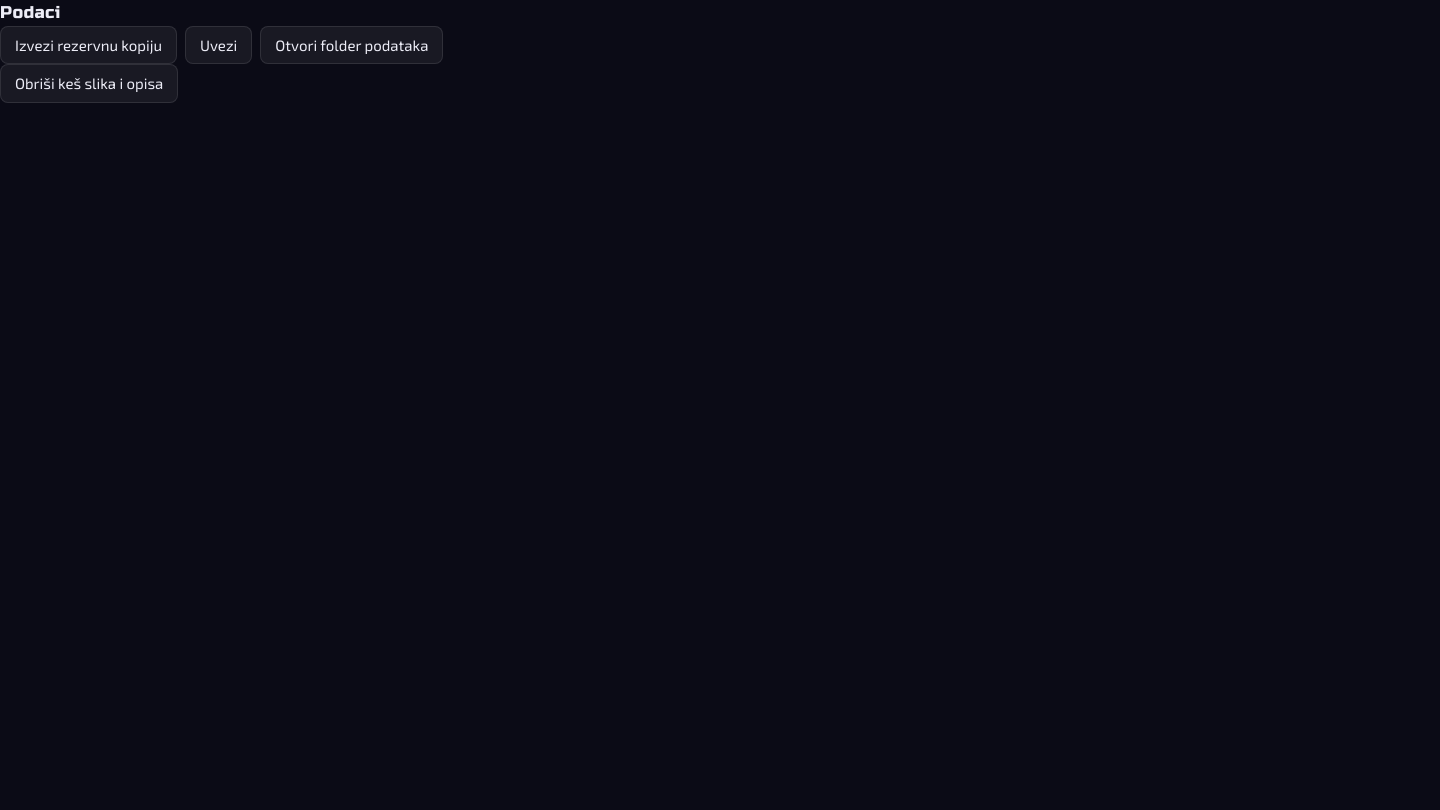
DataSection › import title is an h4 under the section h3
Expected: the heading "Podaci" is shown, [0,2,60,23]
Click the button "Uvezi" at x=219, y=45, box [185,26,252,64]
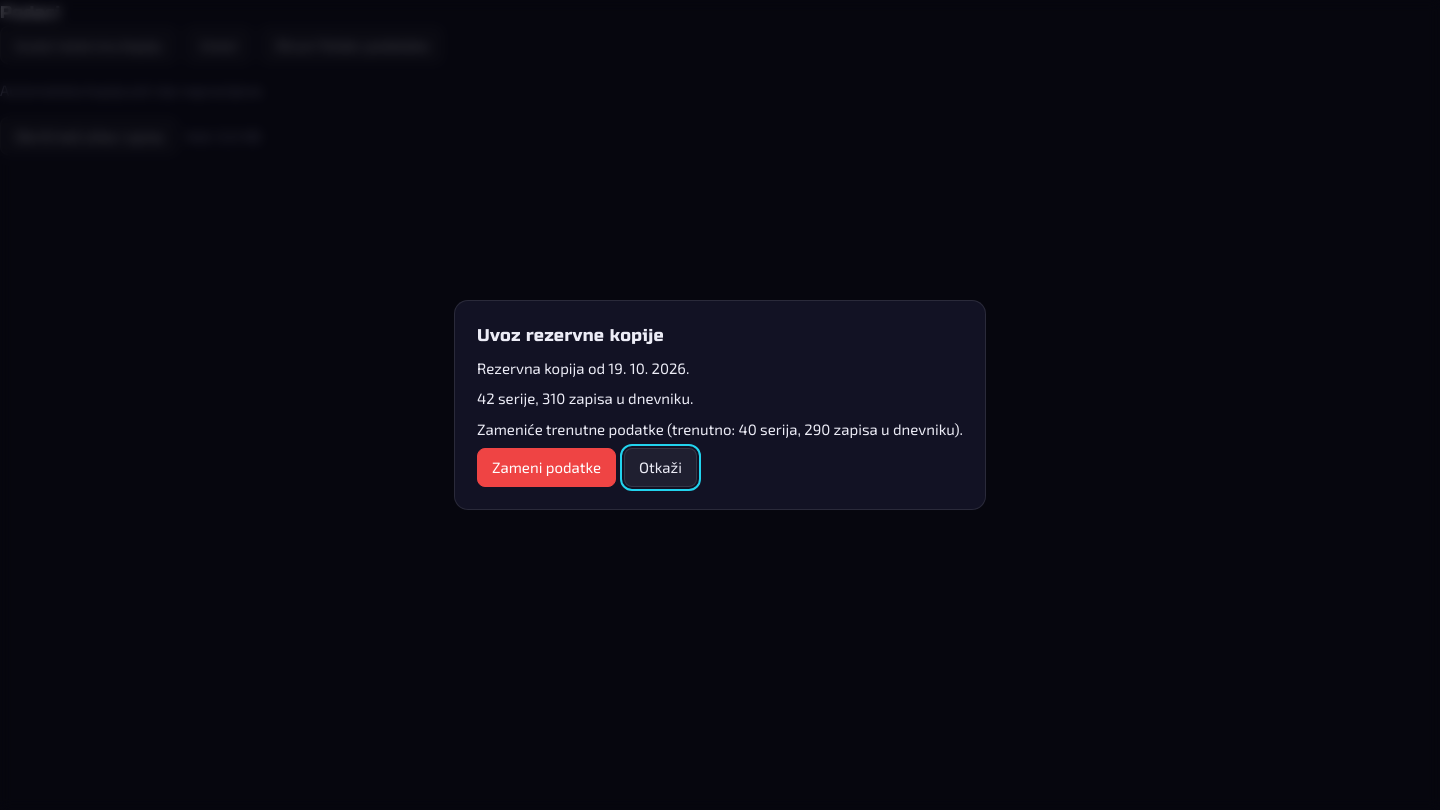
Expected: the heading "Uvoz rezervne kopije" is shown, [477,325,664,346]
